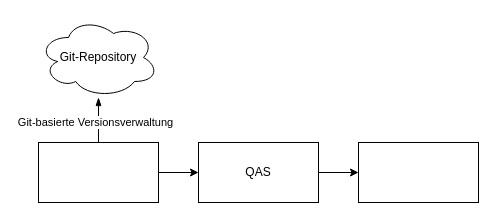
Image size: 496x220. Some labels were removed from this diagram. The shapes that lost their labels are listed below. From the top down, each one's centre as x and y in pixels, then its label:
the point at 98,172: DEV
the point at 418,172: PRD
